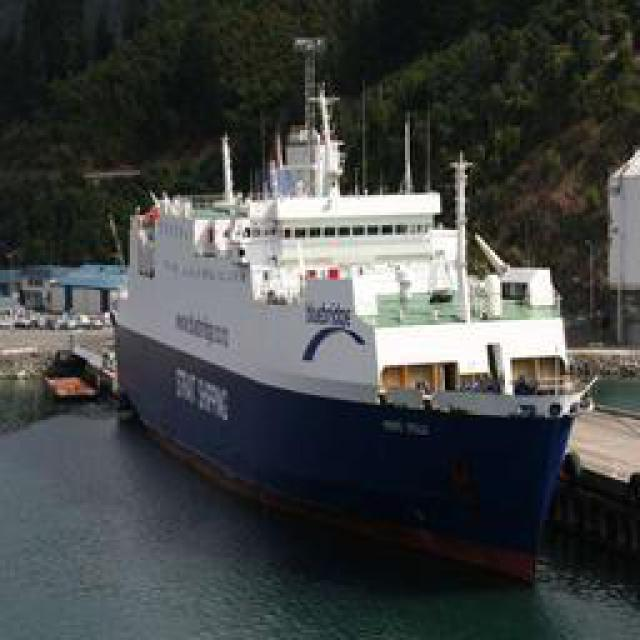Ship: (111, 147, 596, 585)
